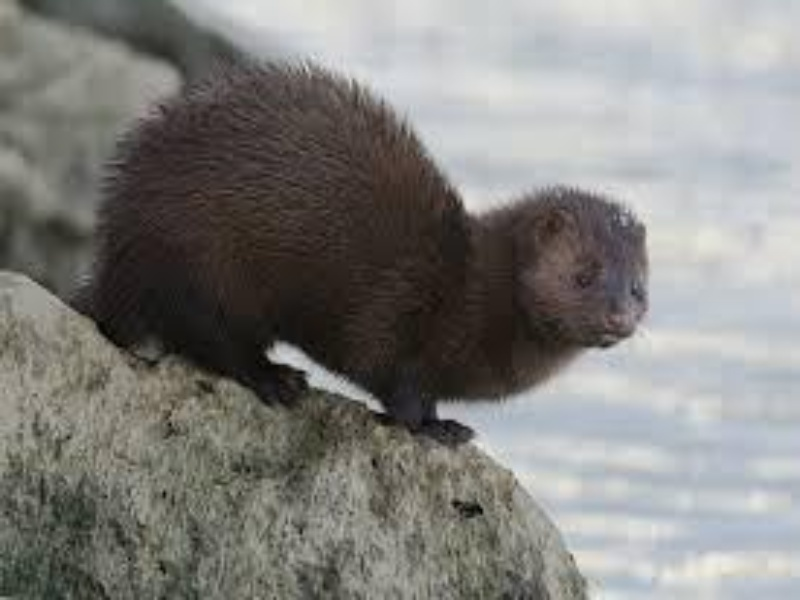minkish: (60, 57, 652, 456)
